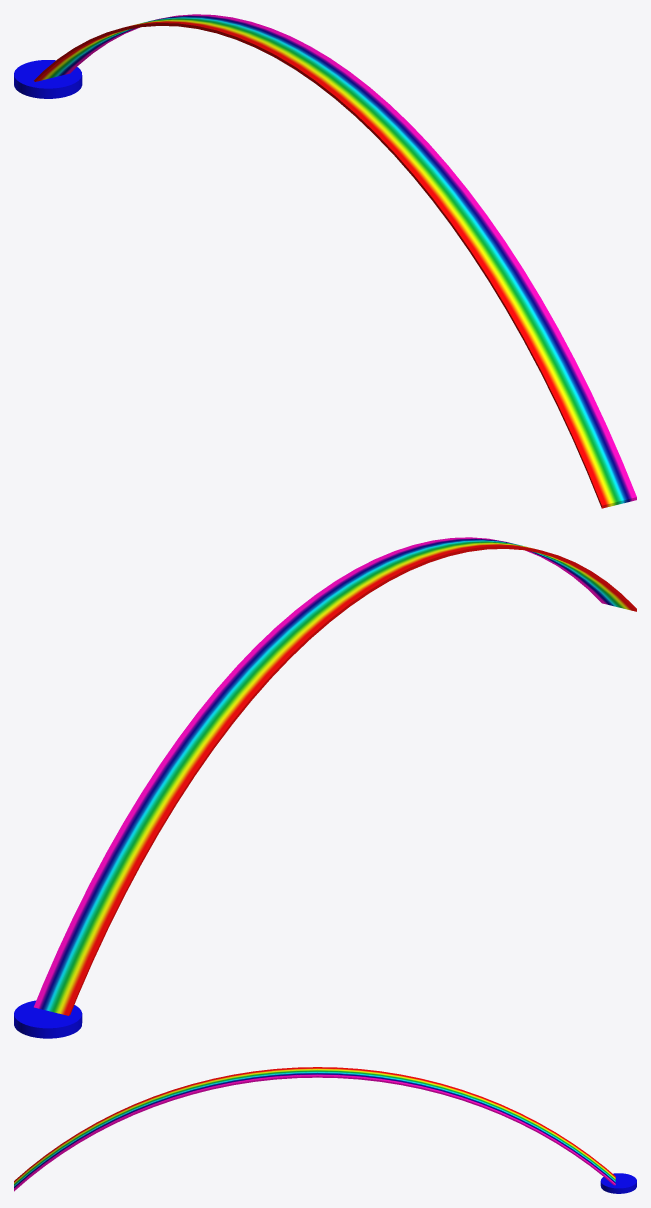
Rendered from Rainbow.fbx.
3 renders of one model, top to bottom at view 1: azimuth 30°, elevation 25°; view 2: azimuth 150°, elevation 25°; view 3: azimuth 270°, elevation 25°, orthographic. The views are drawn at different scales.
Visible parts, largest first — view 1: Main; view 2: Main; view 3: Main.
Part boxes in pixels (box(x1,y1,x2,y2)): Main: box(14, 14, 636, 508); Main: box(14, 537, 636, 1038); Main: box(14, 1067, 636, 1193).
Size of the model in its own units: 0.06 by 0.2115 by 1.03.
Materials: 2 (1 with a texture image).
